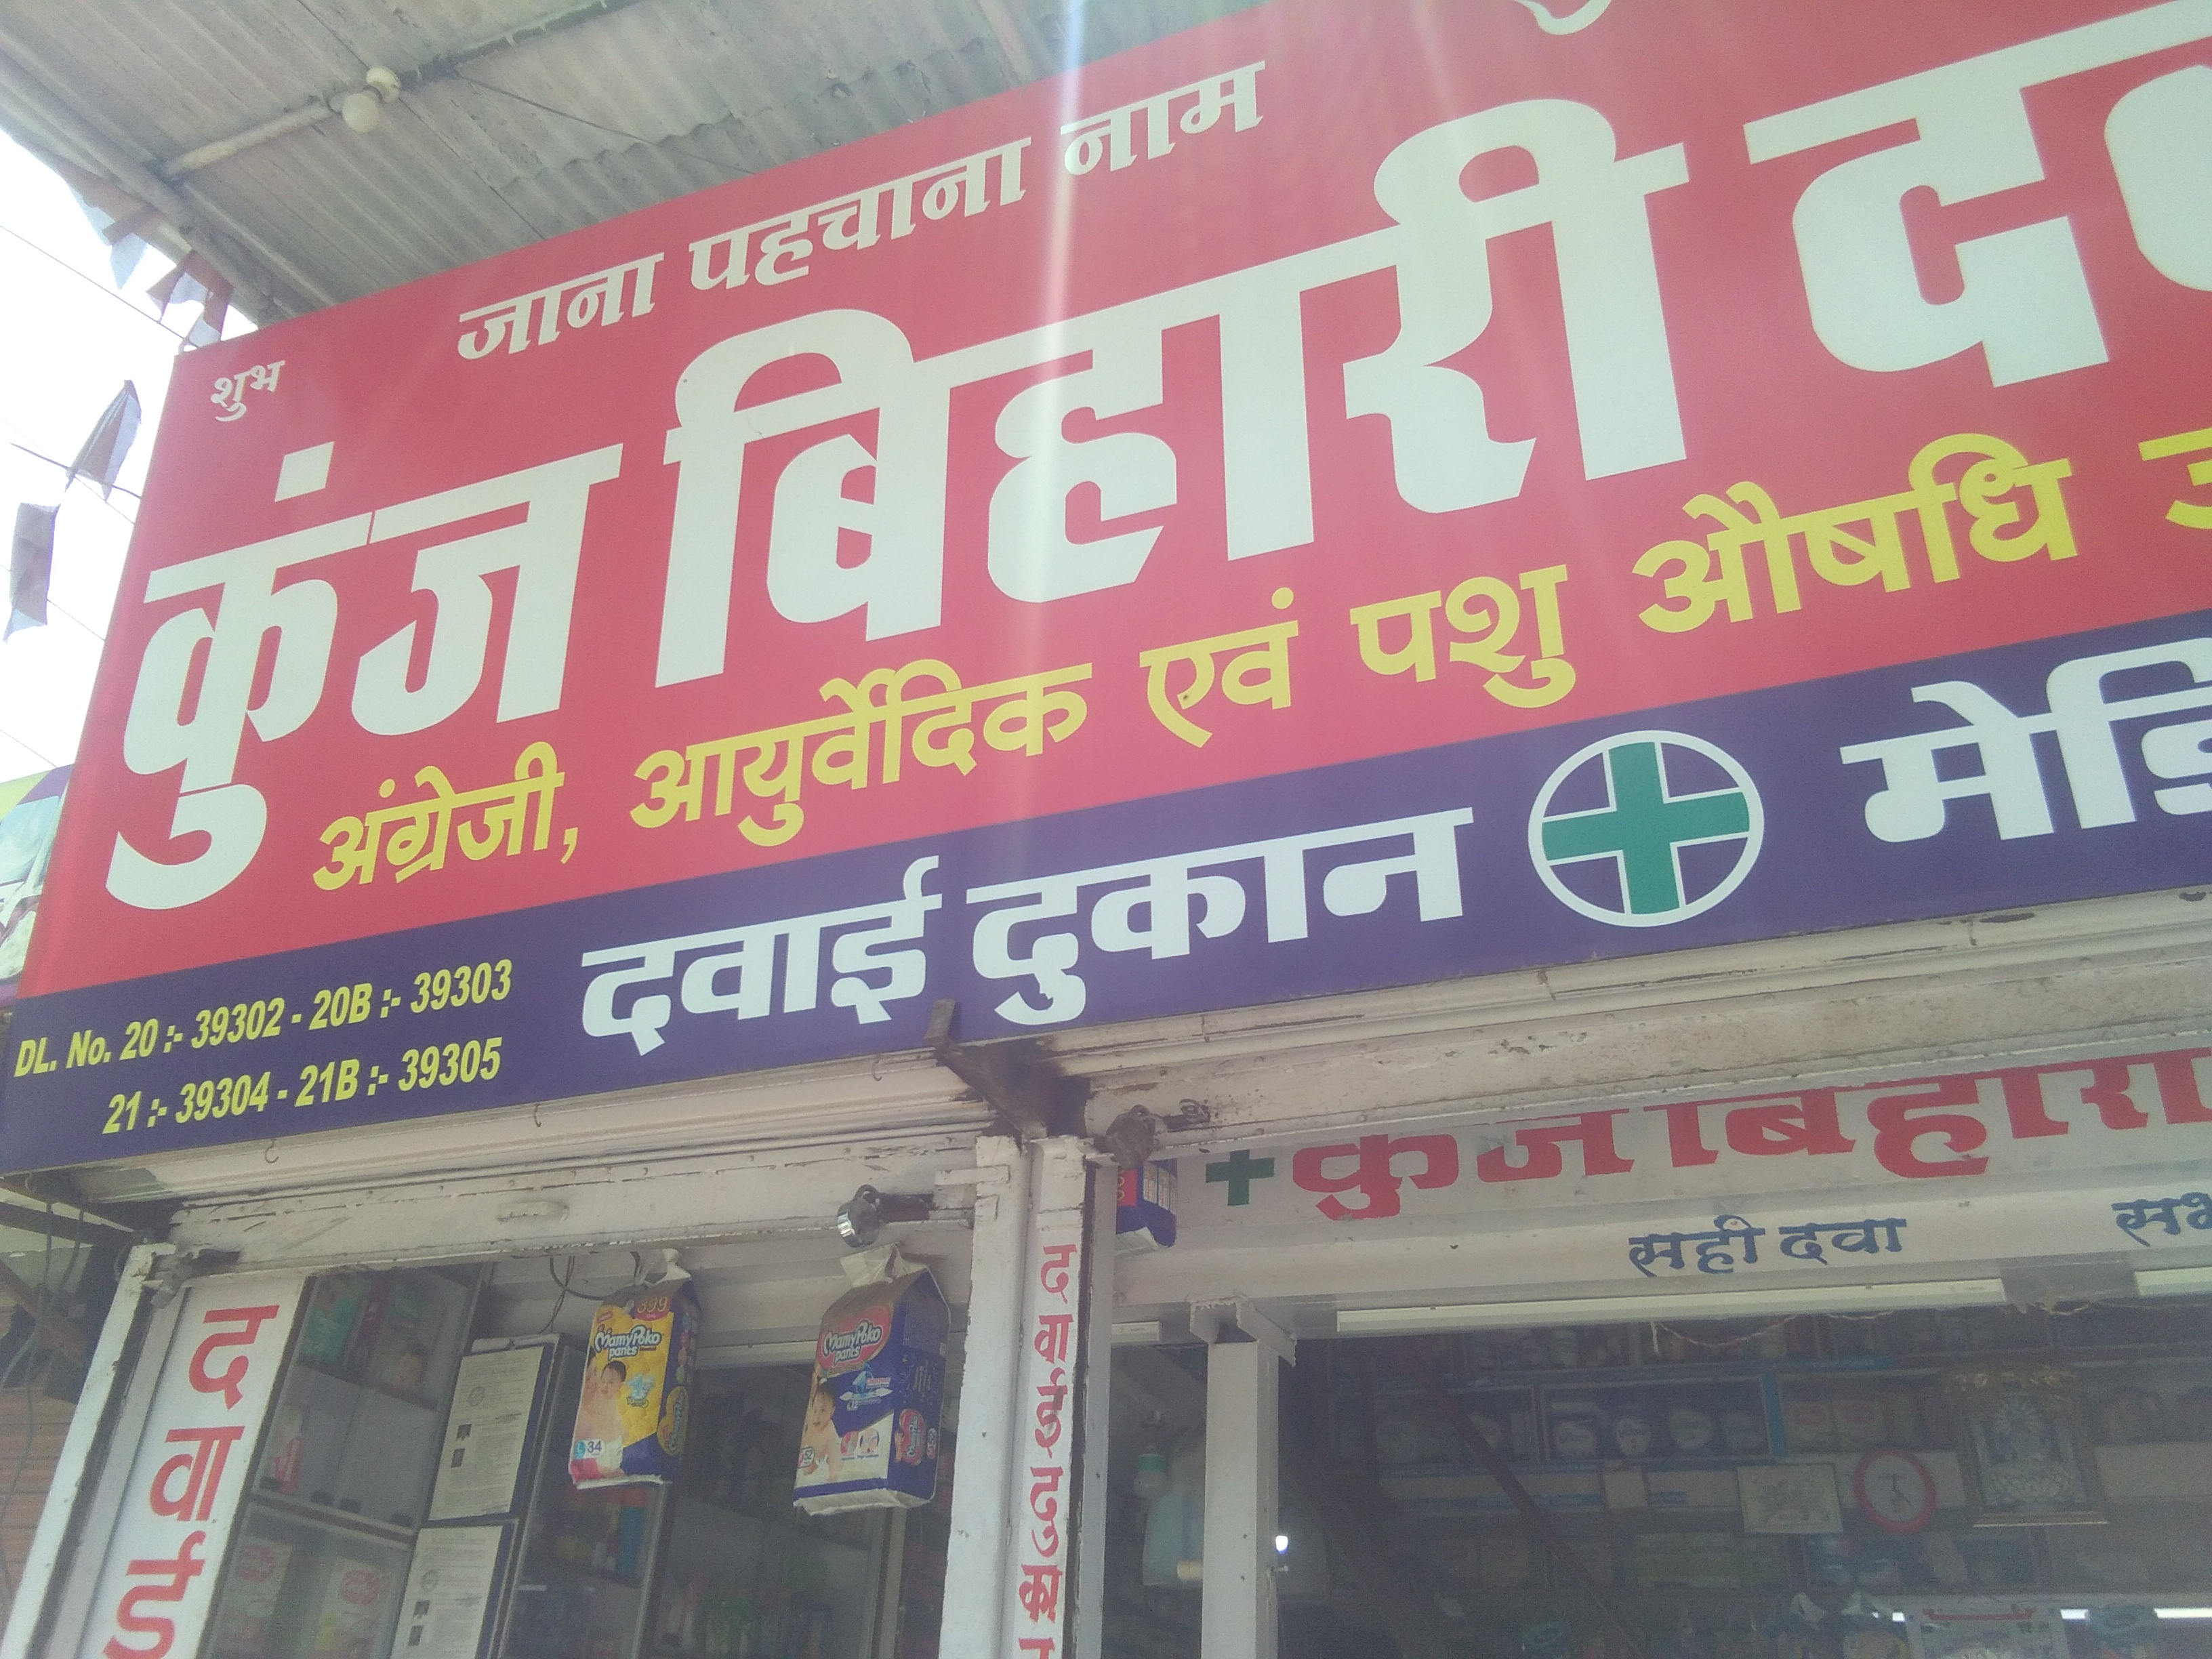text: (2, 0, 2209, 1141), (1256, 1033, 2210, 1286), (82, 1246, 314, 1657), (1010, 1237, 1085, 1656)
